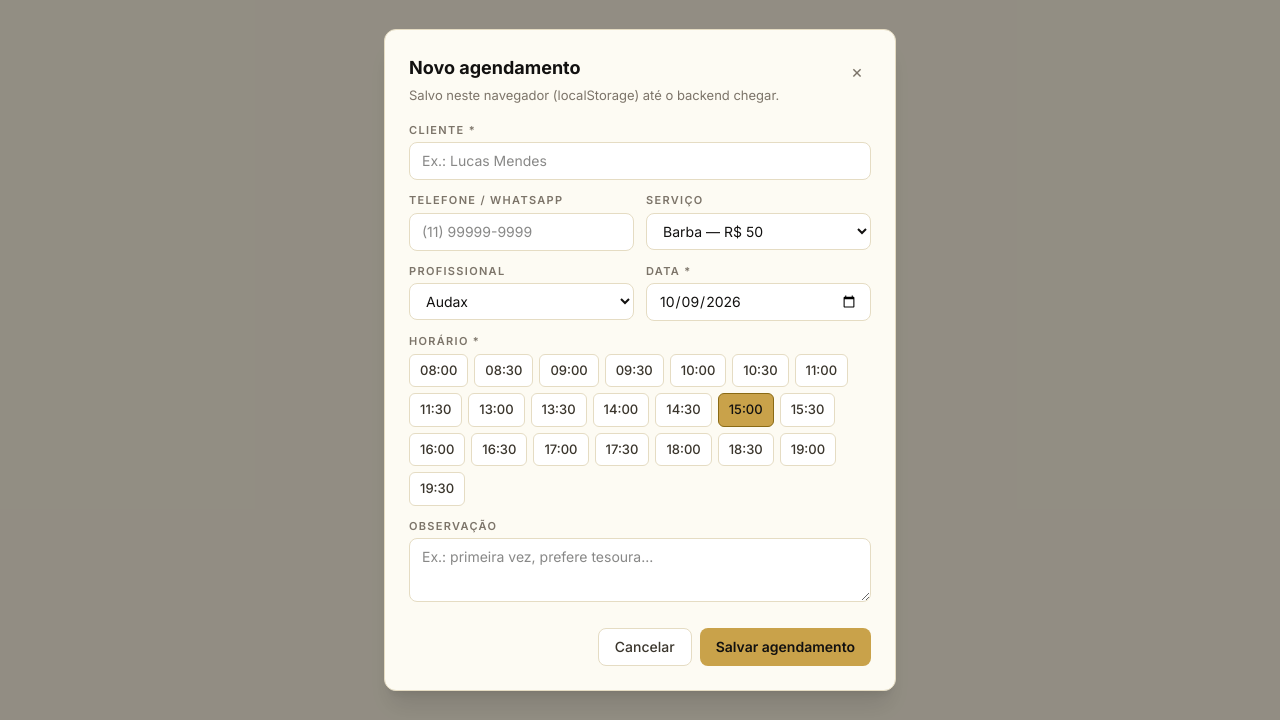
Scenario: Profissionais inativos × novos agendamentos › recusa salvar quando o profissional inicial está inativo
Type "Ana Souza" into the field labelled "Cliente *" at (640, 161), box [409, 142, 871, 180]
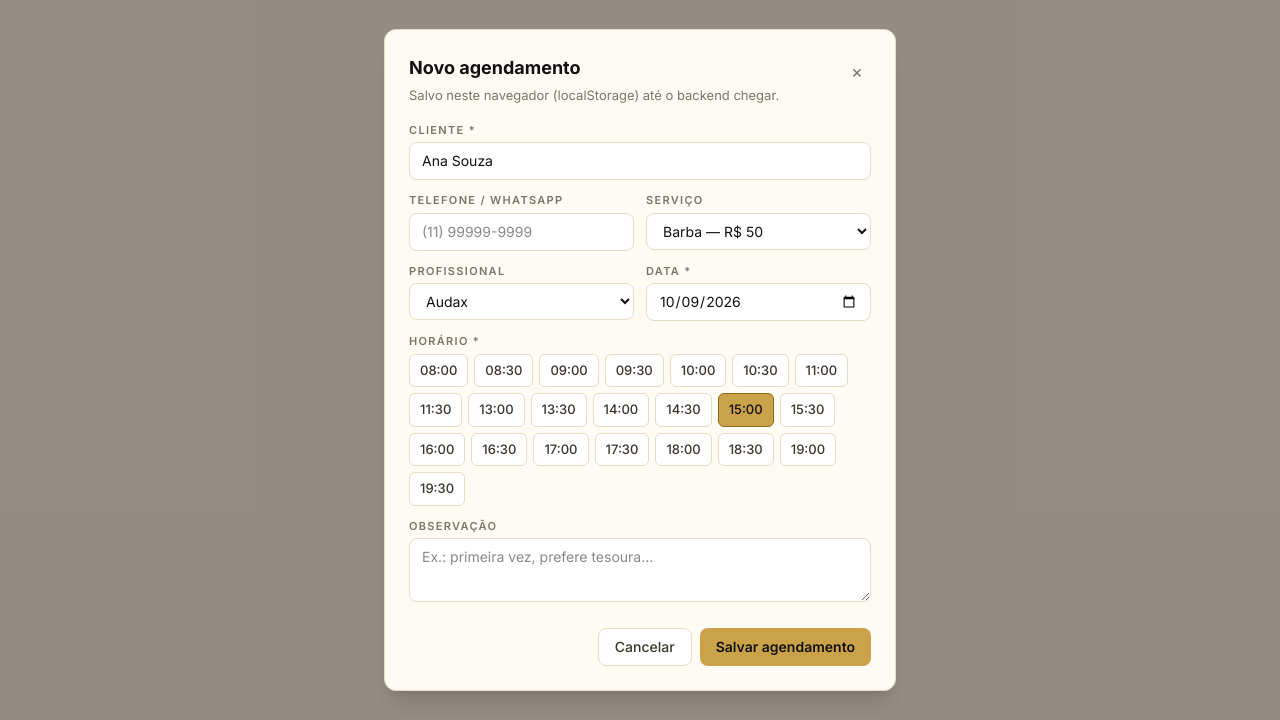
Click the button "Salvar agendamento" at (785, 647), box [700, 628, 871, 666]
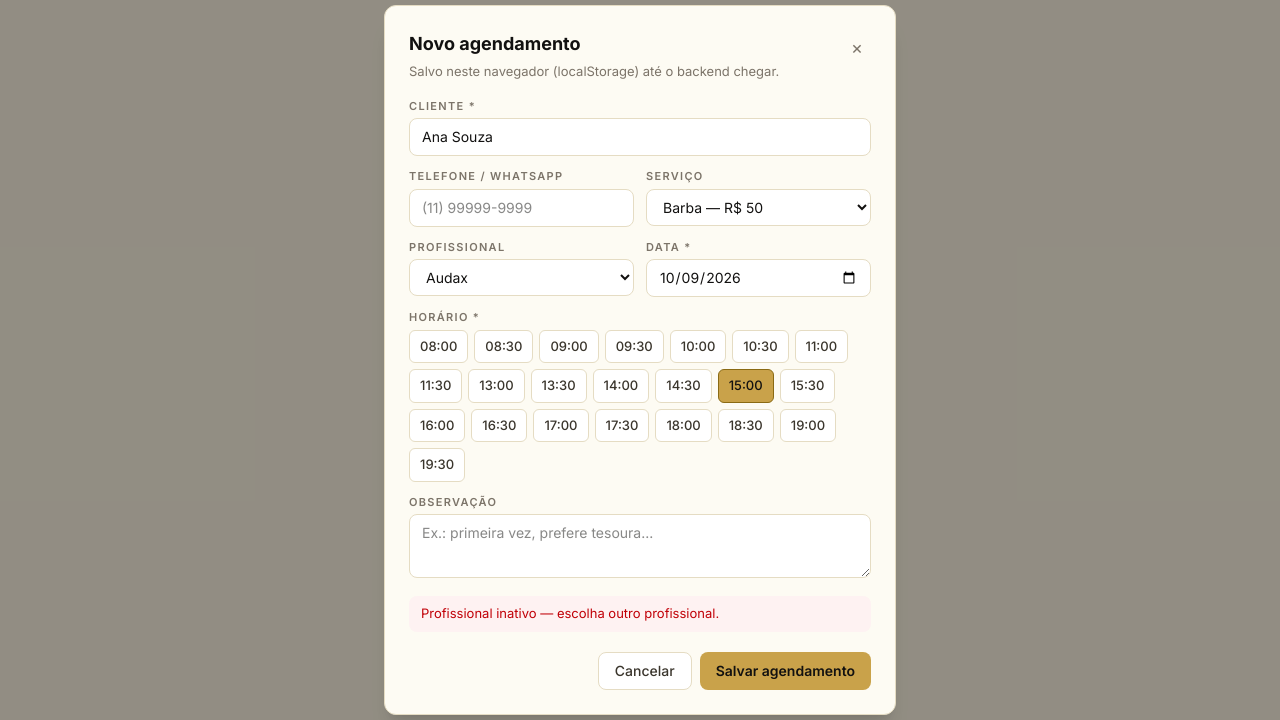
expect the text "Profissional inativo — escolha outro profissional." is shown: met, box [409, 596, 871, 632]
